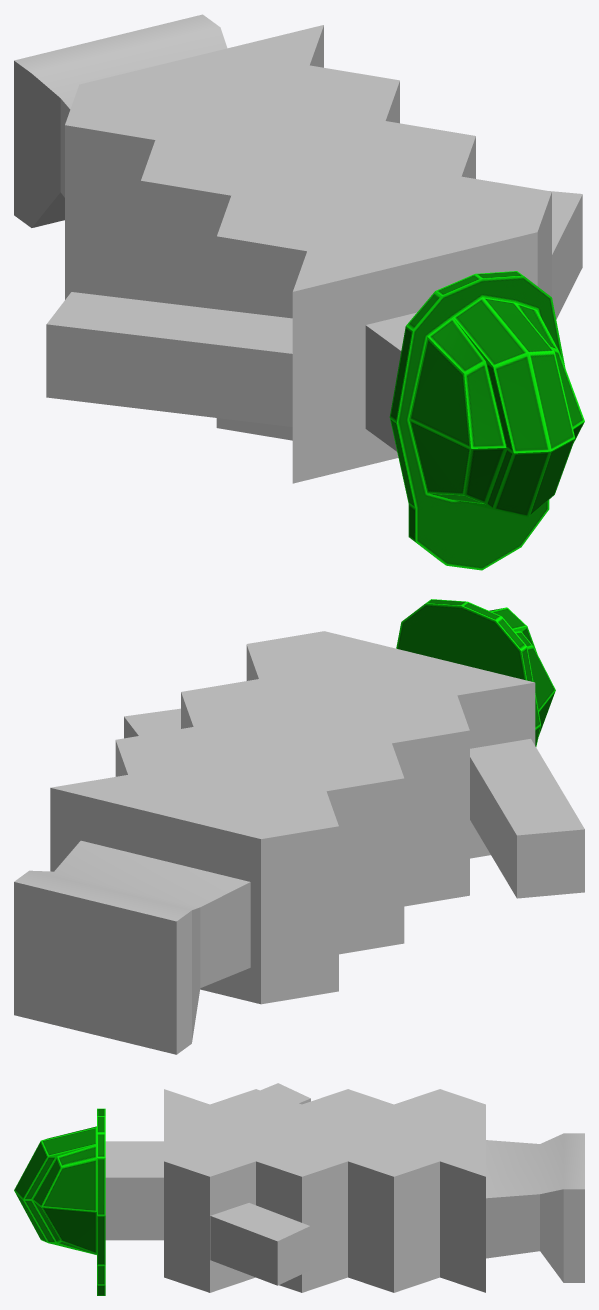
File: Frenchie.obj
The picture shows the model from 3 angles, top to bottom: view 1: azimuth 30°, elevation 25°; view 2: azimuth 150°, elevation 25°; view 3: azimuth 270°, elevation 25°; orthographic projection. The views are drawn at different scales.
Parts seen in each view (by area): view 1: polySurface53 polySurface54 polySurface49, polySurface49, polySurface54 polySurface49; view 2: polySurface53 polySurface54 polySurface49, polySurface49, polySurface54 polySurface49; view 3: polySurface53 polySurface54 polySurface49, polySurface49, polySurface54 polySurface49.
Boxes of the visible parts, x1,y1,x2,y2 form: polySurface53 polySurface54 polySurface49: [14, 14, 551, 483]; polySurface49: [389, 271, 584, 570]; polySurface54 polySurface49: [549, 191, 582, 319]; polySurface53 polySurface54 polySurface49: [14, 631, 584, 1054]; polySurface49: [396, 599, 555, 746]; polySurface54 polySurface49: [124, 708, 180, 738]; polySurface53 polySurface54 polySurface49: [105, 1083, 584, 1292]; polySurface49: [14, 1108, 105, 1295]; polySurface54 polySurface49: [210, 1203, 310, 1285].
Size of the model in its own units: 4.6 by 2.39 by 7.
